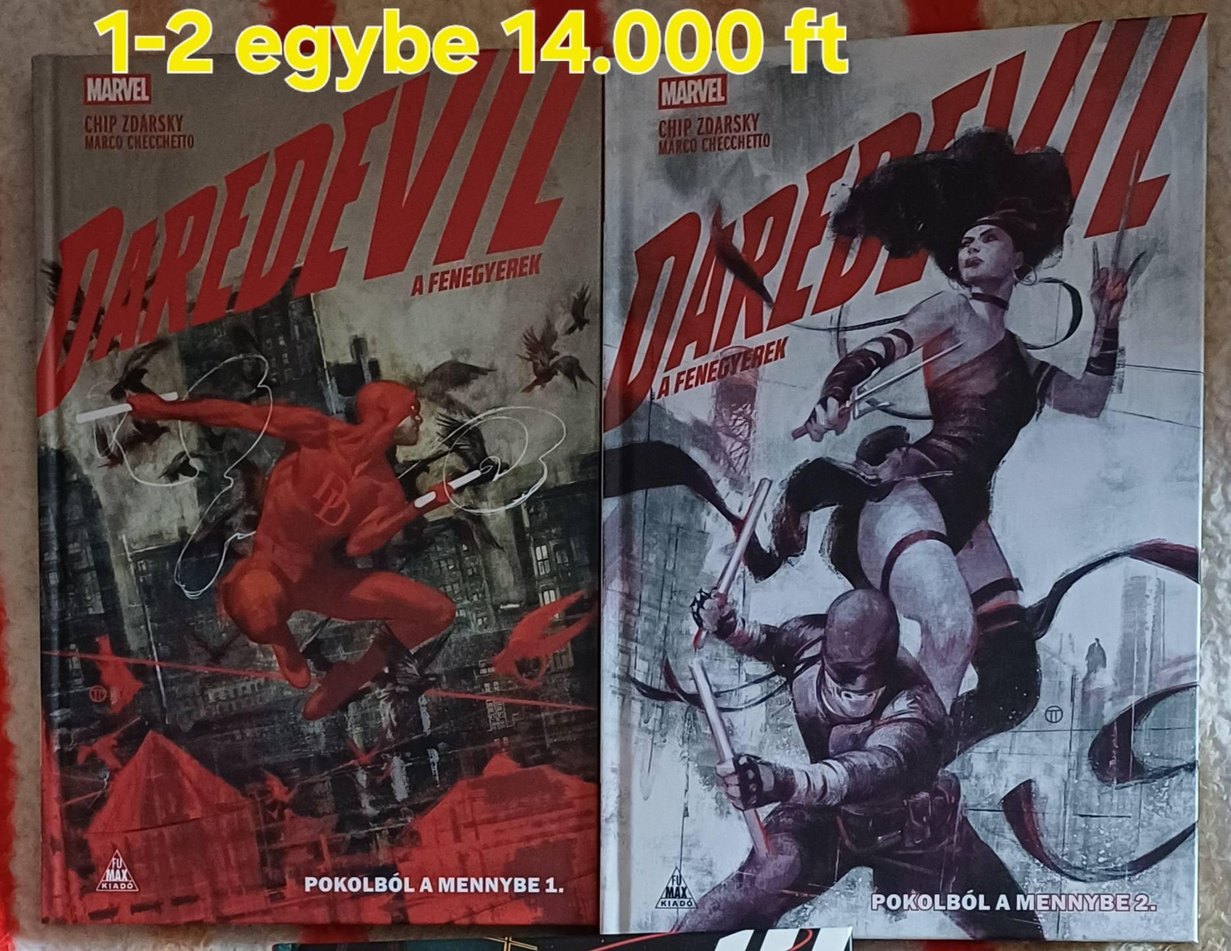comic: (597, 9, 1206, 941), (34, 52, 608, 929), (275, 927, 851, 950)
